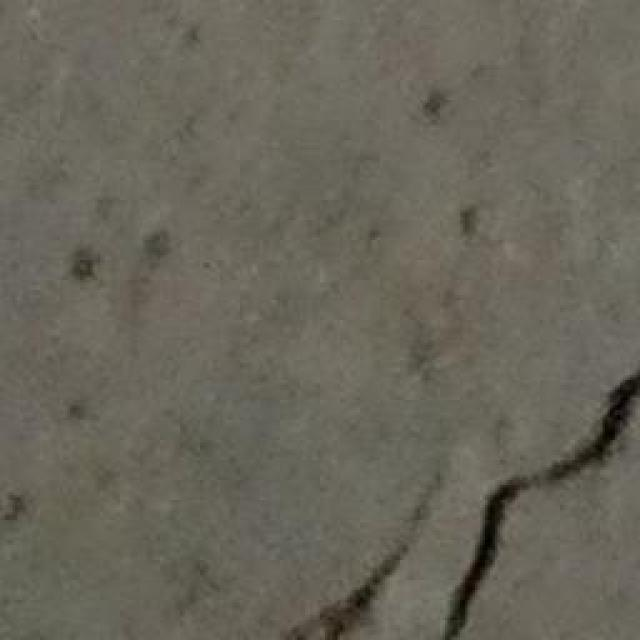Diagonal: (452, 385, 640, 637), (284, 456, 447, 640)
